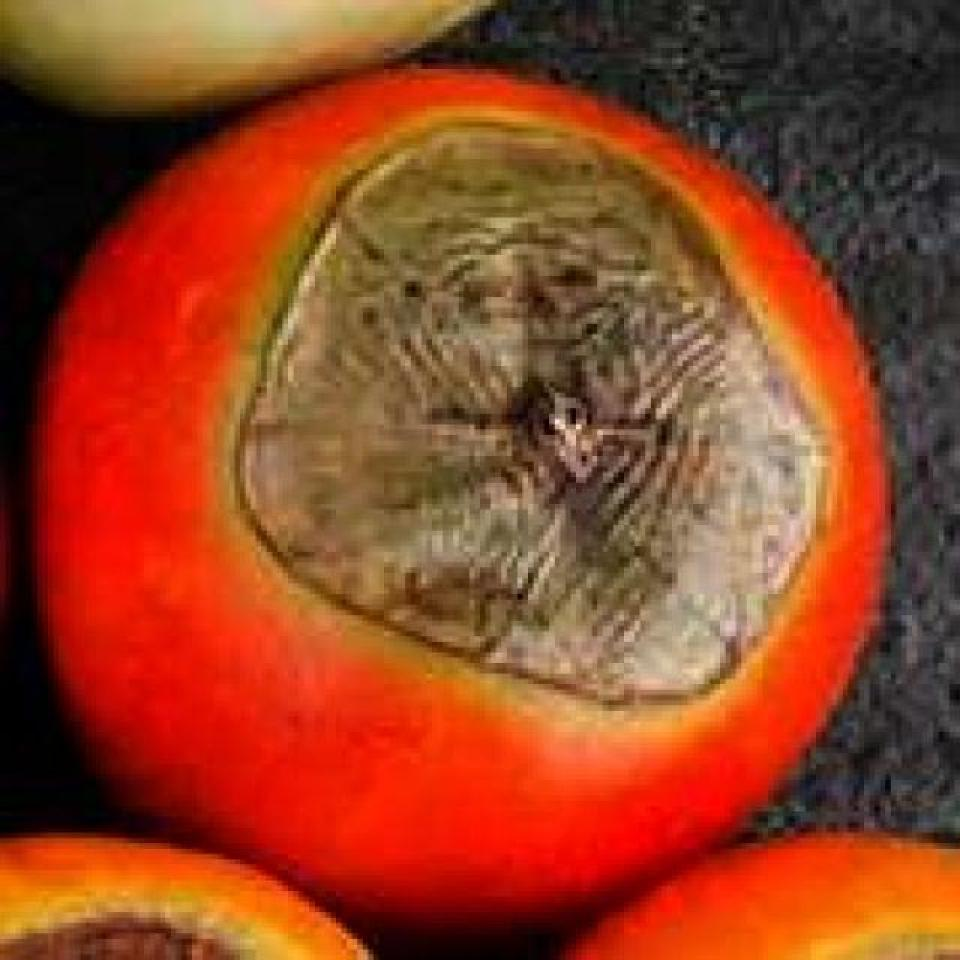Blossom_end_rot: (214, 111, 848, 732), (0, 902, 282, 954)
